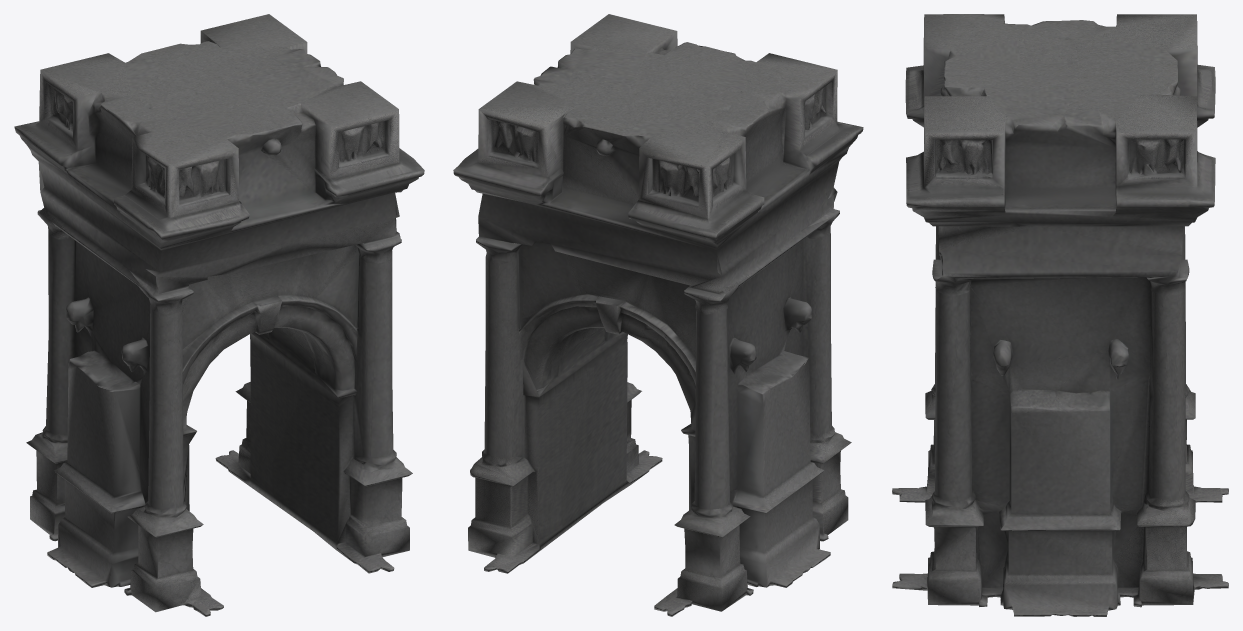
File: prp_lm_arch.glb
3 views of the same model, side by side, from view 1: azimuth 30°, elevation 25°; view 2: azimuth 150°, elevation 25°; view 3: azimuth 270°, elevation 25° (orthographic). The views are drawn at different scales.
Parts seen in each view (by area): view 1: prp_lm_arch; view 2: prp_lm_arch; view 3: prp_lm_arch.
Boxes of the visible parts, x1,y1,x2,y2 form: prp_lm_arch: (14,14,424,616); prp_lm_arch: (453,14,863,616); prp_lm_arch: (892,14,1228,616).
Size of the model in its own units: 14.09 by 20 by 13.03.
1 material, 1 textured.
